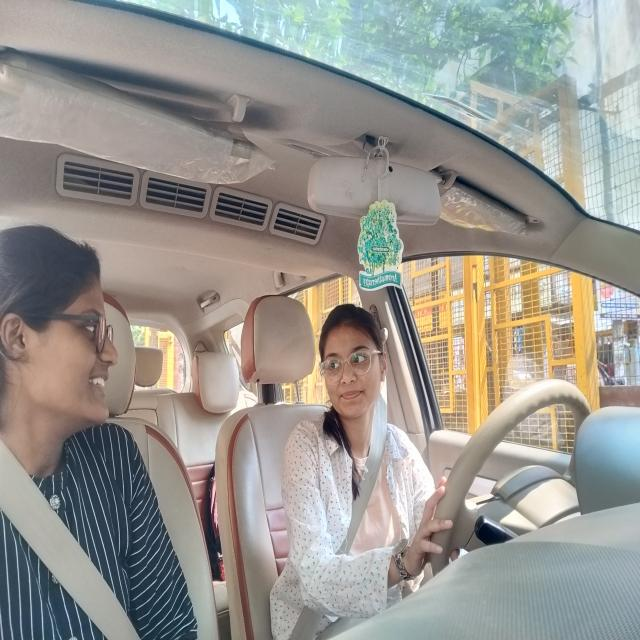LeftRight: (308, 292, 409, 488)
person: (0, 188, 134, 498)
